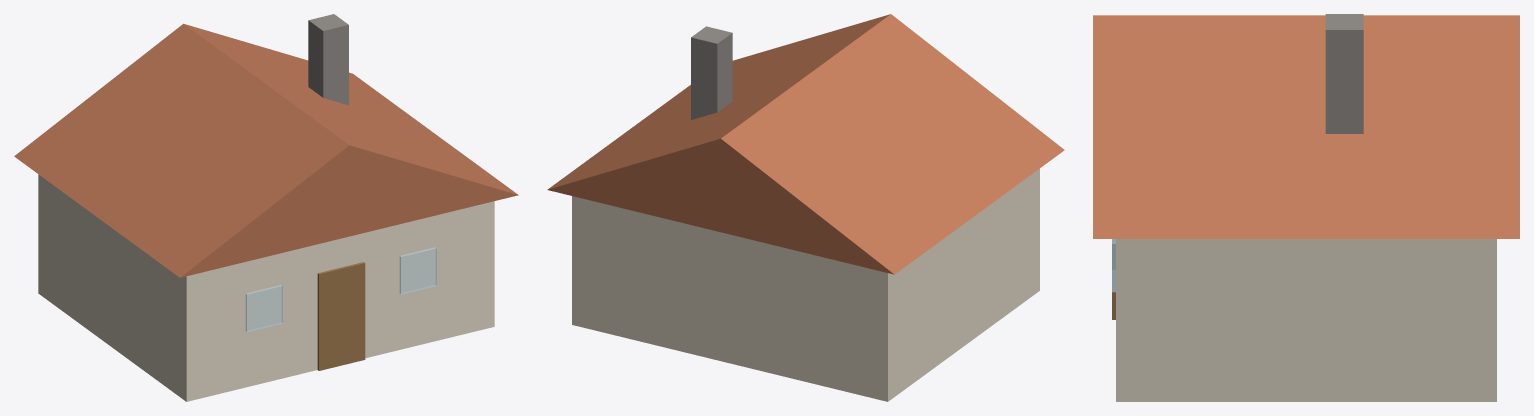
The model's file is house-claudesonnet46.glb.
3 renders of one model, left to right at view 1: azimuth 30°, elevation 25°; view 2: azimuth 150°, elevation 25°; view 3: azimuth 270°, elevation 25°, orthographic. The views are drawn at different scales.
Parts seen in each view (by area): view 1: House; view 2: House; view 3: House.
Boxes of the visible parts, left/top/right/bottom form: House: left=14, top=14, right=518, bottom=401; House: left=547, top=14, right=1064, bottom=401; House: left=1093, top=14, right=1519, bottom=401.
Size of the model in its own units: 6.6 by 4.8 by 5.6.
